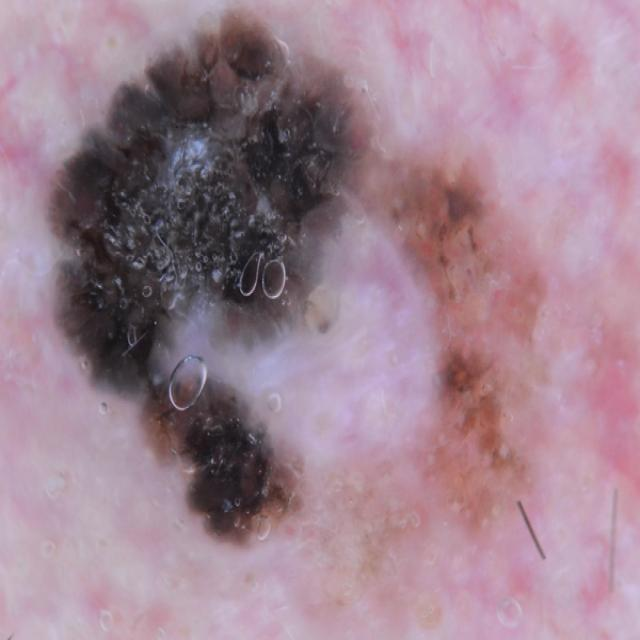Skin-Cancer Pigmented benign keratosis: (3, 18, 606, 640)
